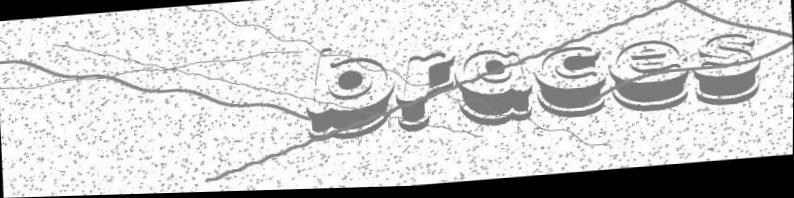a: (454, 46, 537, 126)
b: (302, 38, 394, 143)
c: (533, 39, 611, 125)
e: (603, 37, 691, 120)
r: (393, 44, 462, 139)
s: (689, 28, 765, 115)
